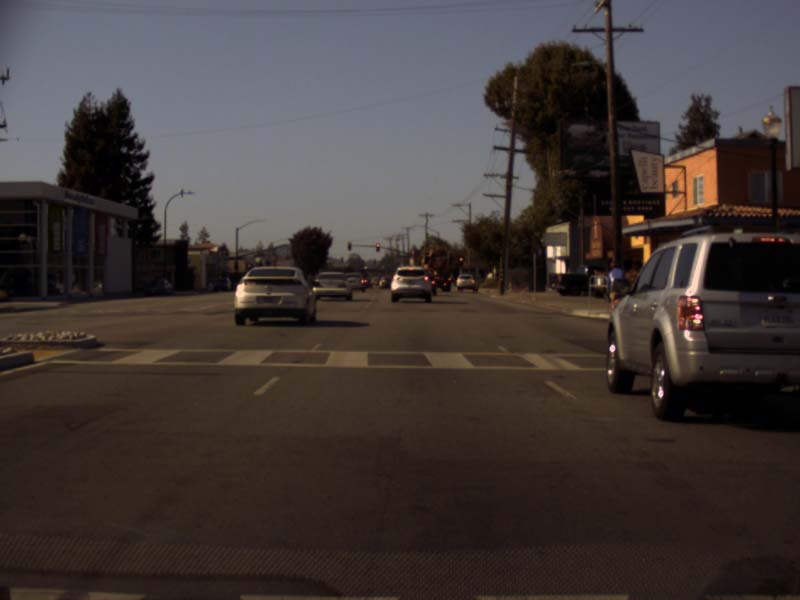Red: (375, 243, 379, 251), (347, 242, 351, 250), (246, 263, 251, 267)
Yellow: (457, 256, 463, 266)
